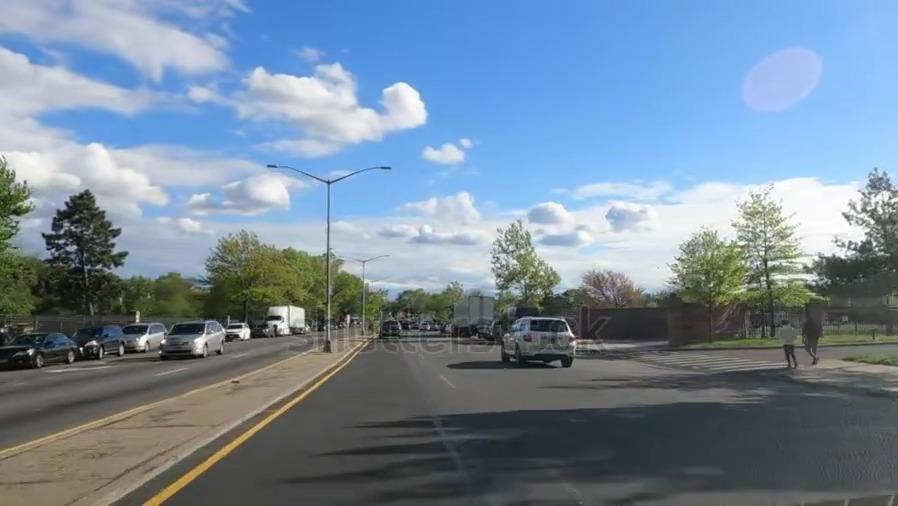car: (517, 311, 577, 363), (11, 326, 73, 367), (169, 320, 223, 358), (70, 326, 123, 353), (123, 321, 166, 351), (377, 316, 402, 336), (231, 320, 252, 336)
person: (776, 312, 800, 367), (806, 300, 827, 361)
truck: (263, 302, 311, 332)
